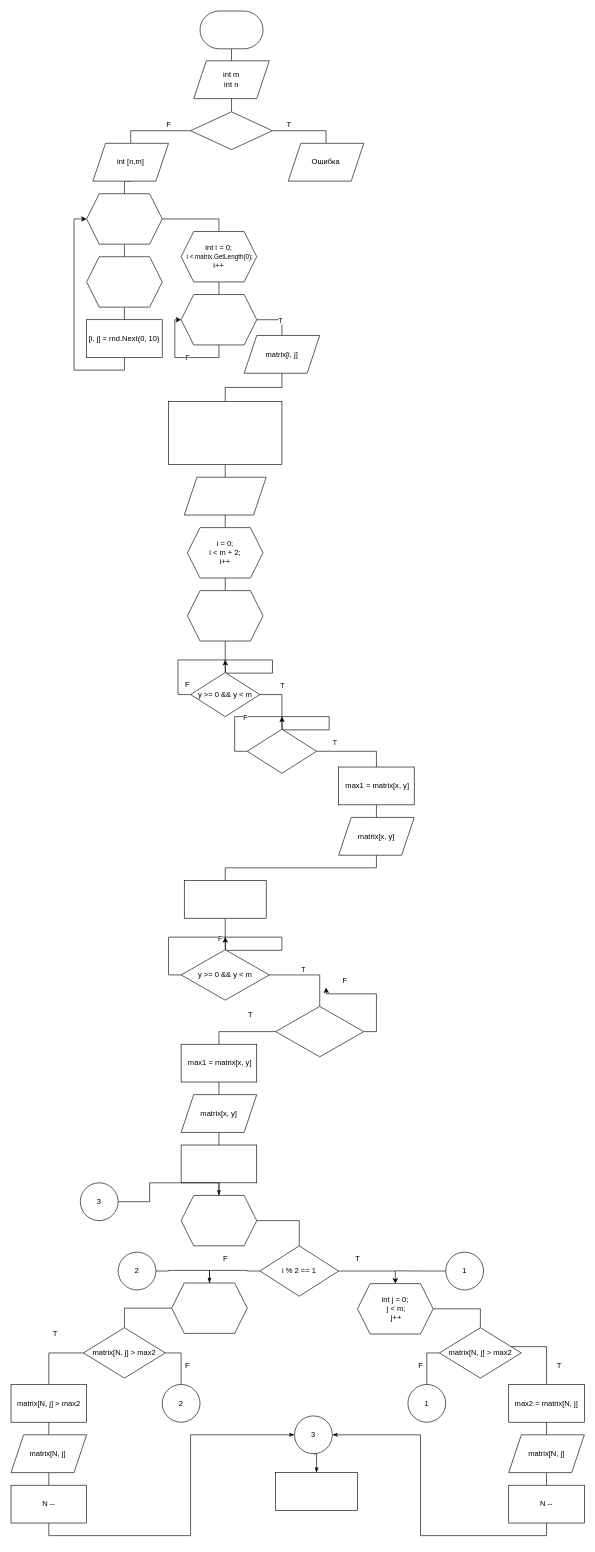
This 595x1552 diagram has some shape labels left out. The shapes that lost their labels are listed below. From the top down, each one's centre as x and y in pixels, then its label:
[231,29]: start
[231,130]: n % 2 != 0
[124,218]: i = 0; i <m; i++
[124,281]: j = 0; j <m; j++
[218,319]: int j = 0; j < matrix.GetLength(0); j++
[225,433]: int X = -1; int Y = -1; int x = n - 1; int y = 1; int max1 = matrix[x, y - 1];
[225,496]: matrix[x, y - 1]
[225,615]: j = 1; j < n / 2; j++
[282,751]: max1 < matrix[x, y]
[225,899]: x += X; y += Y;
[319,1031]: matrix[x, y] > max1
[218,1163]: max2 = matrix[x / 2, y - 1] N = n / 2 - 1
[218,1220]: int i = 0; i < n / 2; i++
[209,1307]: int j = m - 1; j >= 0; j--
[316,1491]: "max= " + Max(max1, max2)
